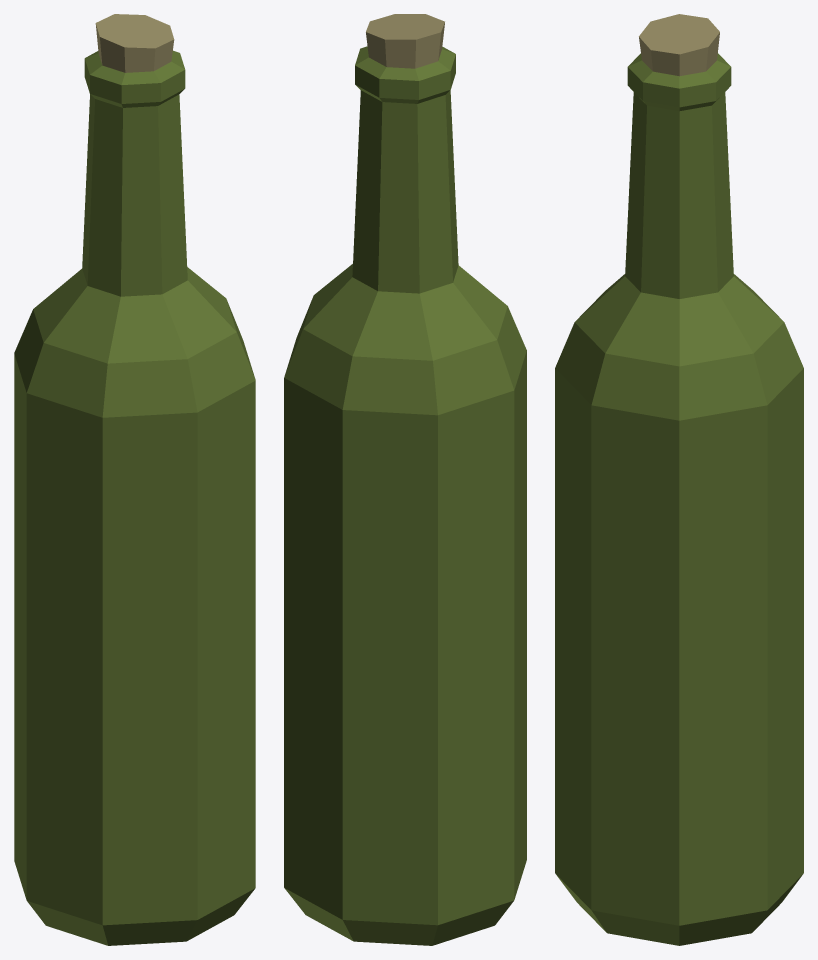
The model's file is Bottle_2.fbx.
The picture shows the model from 3 angles, left to right: view 1: azimuth 30°, elevation 25°; view 2: azimuth 150°, elevation 25°; view 3: azimuth 270°, elevation 25°; orthographic projection.
Visible parts, largest first — view 1: Bottle_2; view 2: Bottle_2; view 3: Bottle_2.
Boxes of the visible parts, x1,y1,x2,y2 form: Bottle_2: (14,14,255,945); Bottle_2: (284,14,526,945); Bottle_2: (555,14,803,945).
Bounding box in the file's own units: 8.67 × 33.53 × 8.67.
